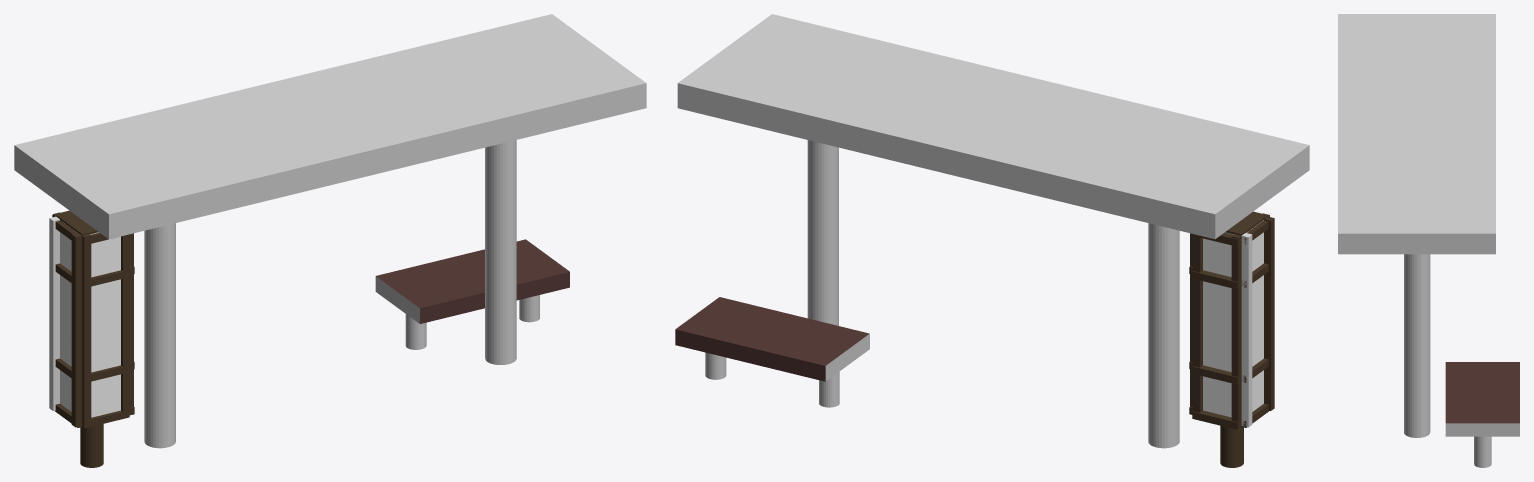
3 renders of one model, left to right at view 1: azimuth 30°, elevation 25°; view 2: azimuth 150°, elevation 25°; view 3: azimuth 270°, elevation 25°, orthographic. The views are drawn at different scales.
Visible parts, largest first — view 1: Cylinder.001, d.001, Cube, Cube.004, Cube.002, Cube.007, Cylinder, Cube.008; view 2: Cylinder.001, d.001, Cube.004, Cube, Cube.003, Cube.006, Cylinder; view 3: Cylinder.001.
Boxes of the visible parts, <box> form: Cylinder.001: <box>14,14,646,448</box>; d.001: <box>60,220,120,417</box>; Cube: <box>71,233,82,427</box>; Cube.004: <box>49,216,59,410</box>; Cube.002: <box>82,234,91,427</box>; Cube.007: <box>121,234,129,417</box>; Cylinder: <box>80,424,103,467</box>; Cube.008: <box>129,233,133,407</box>; Cylinder.001: <box>675,14,1309,448</box>; d.001: <box>1203,220,1263,417</box>; Cube.004: <box>1241,233,1252,427</box>; Cube: <box>1264,216,1274,410</box>; Cube.003: <box>1231,234,1241,422</box>; Cube.006: <box>1193,236,1202,412</box>; Cylinder: <box>1220,425,1243,467</box>; Cylinder.001: <box>1338,14,1519,467</box>.
Bounding box in the file's own units: 23.67 × 12.23 × 8.29.
